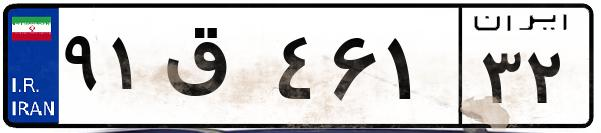1: (385, 28, 445, 110), (110, 28, 158, 98)
2: (525, 38, 570, 115)
3: (475, 38, 525, 113)
4: (270, 28, 330, 110)
6: (330, 28, 385, 110)
9: (57, 26, 110, 100)
ق: (158, 20, 270, 120)
